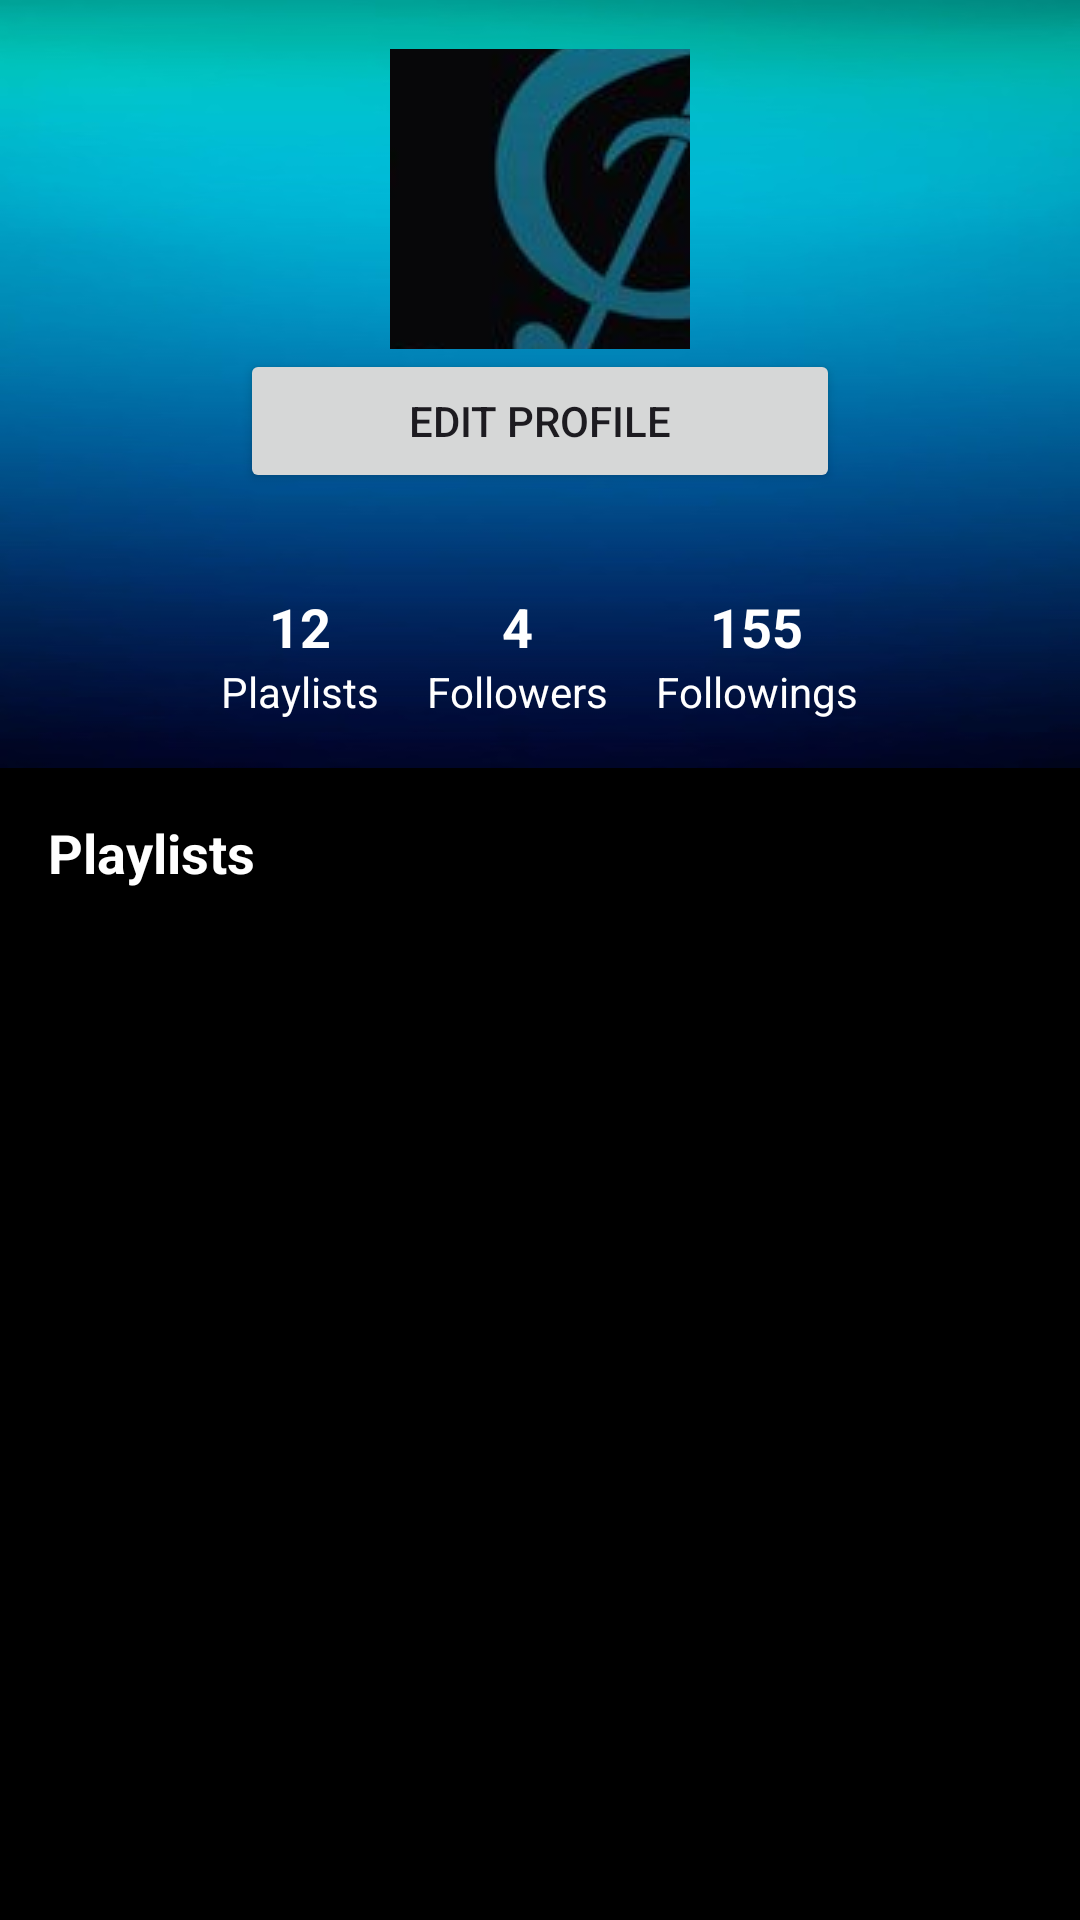

Icons on this 1080w x 1920h Android screen, each with the point to tap as (x=x, y=y):
Avatar: (x=540, y=199)
